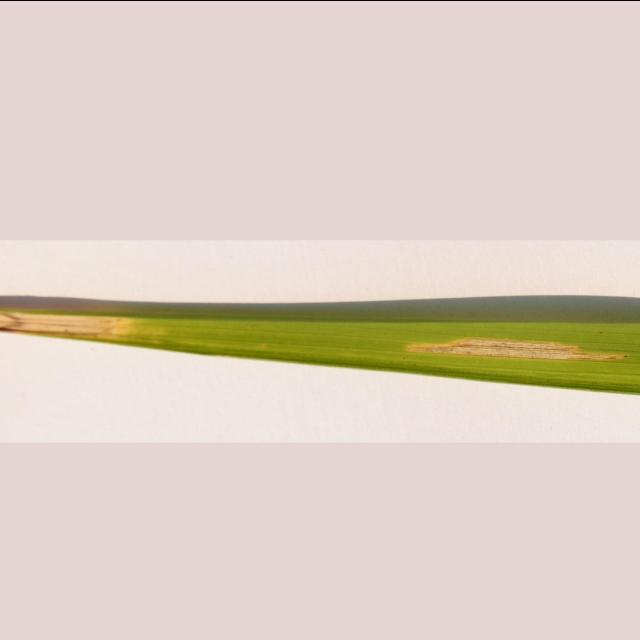Bacterial leaf blight: (0, 266, 174, 351), (402, 332, 628, 360)
